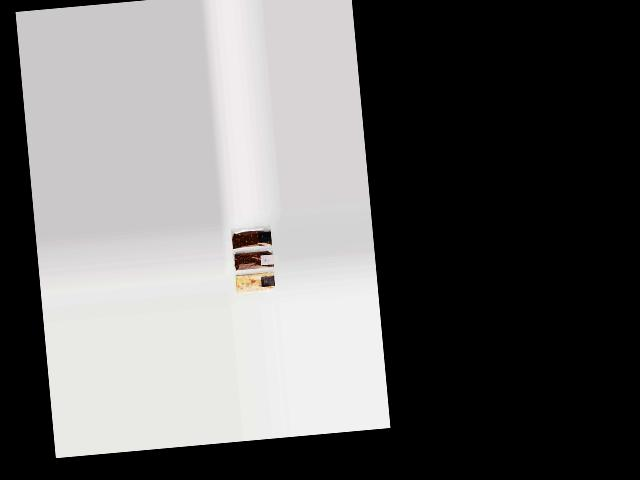chocolate: (229, 226, 271, 248)
